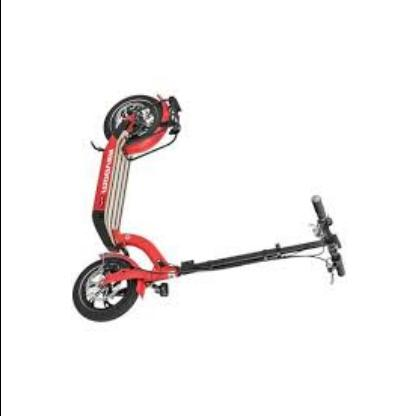bike: (72, 94, 346, 323)
